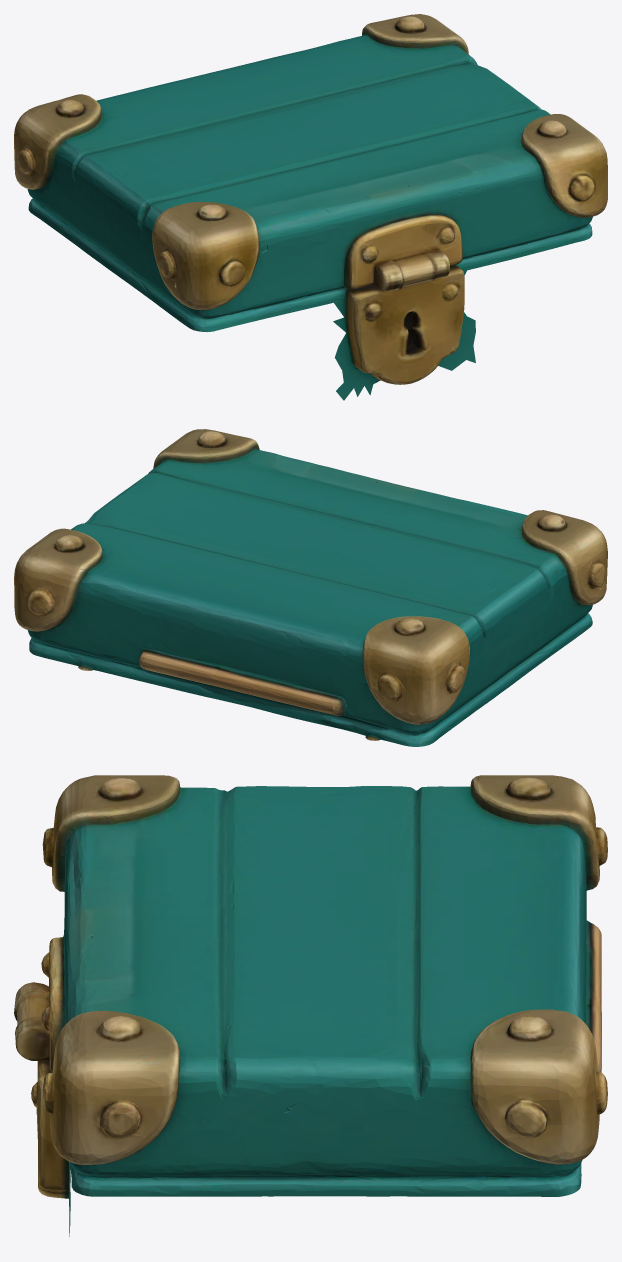
The model's file is lid.glb.
3 renders of one model, top to bottom at view 1: azimuth 30°, elevation 25°; view 2: azimuth 150°, elevation 25°; view 3: azimuth 270°, elevation 25°, orthographic. The views are drawn at different scales.
Visible parts, largest first — view 1: source_surface_0; view 2: source_surface_0; view 3: source_surface_0.
Part boxes in pixels (x1,y1,x2,y2): source_surface_0: (14,14,607,400); source_surface_0: (14,429,607,746); source_surface_0: (14,775,607,1236).
Bounding box in the file's own units: 0.2286 × 0.1049 × 0.1854.
Materials: 1 (1 with a texture image).
